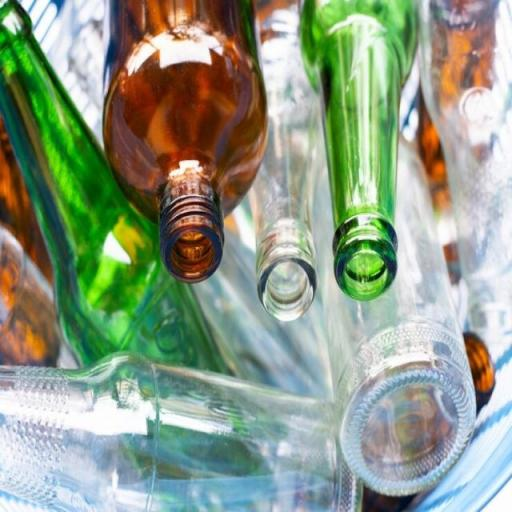glass: (0, 0, 231, 391), (0, 335, 366, 512), (106, 4, 266, 282), (287, 0, 427, 311), (418, 4, 511, 346), (233, 0, 324, 327)
